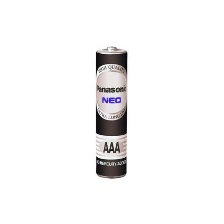battery: (91, 43, 130, 180)
